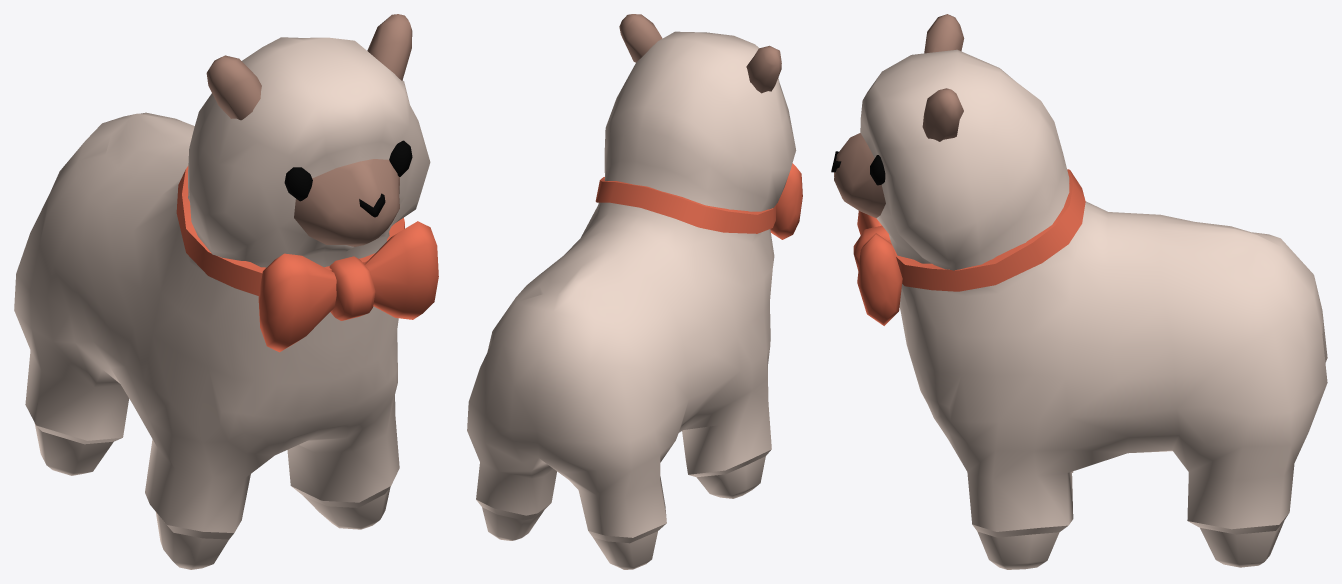
File: alpaca (16).fbx
3 renders of one model, left to right at view 1: azimuth 30°, elevation 25°; view 2: azimuth 150°, elevation 25°; view 3: azimuth 270°, elevation 25°, orthographic. The views are drawn at different scales.
Parts seen in each view (by area): view 1: Alpaca; view 2: Alpaca; view 3: Alpaca.
Part boxes in pixels (bbox=[...]): Alpaca: bbox=[14, 14, 438, 569]; Alpaca: bbox=[467, 14, 802, 569]; Alpaca: bbox=[831, 14, 1327, 569].
Bounding box in the file's own units: 35.83 × 38.1 × 17.61.
